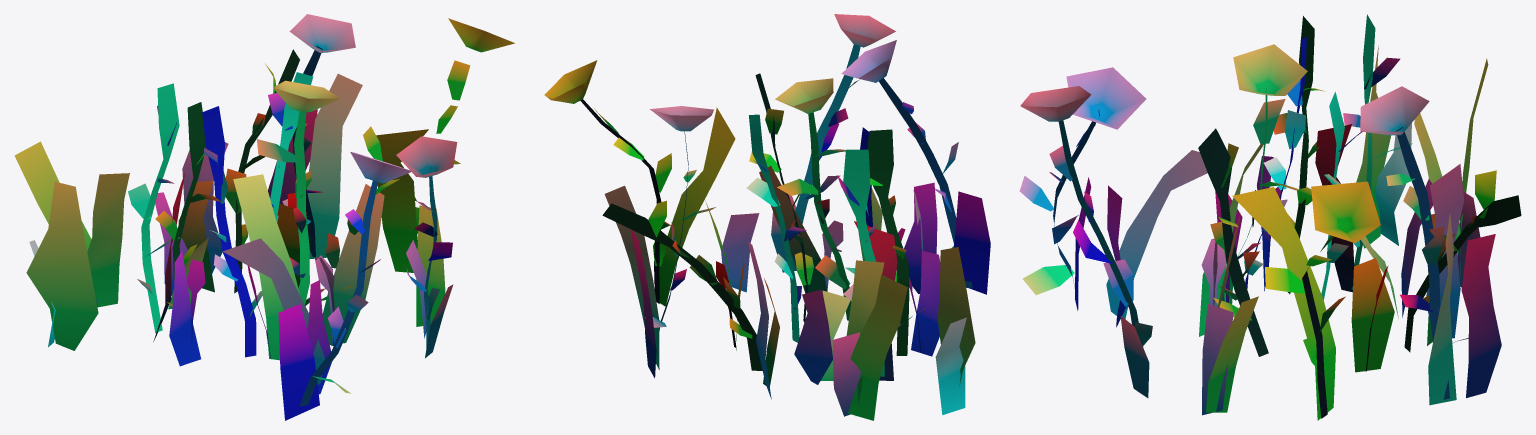
File: matted_pratia_f.fbx
3 views of the same model, side by side, from view 1: azimuth 30°, elevation 25°; view 2: azimuth 150°, elevation 25°; view 3: azimuth 270°, elevation 25° (orthographic). The views are drawn at different scales.
Visible parts, largest first — view 1: _9c06_VarF_LOD1; view 2: _9c06_VarF_LOD1; view 3: _9c06_VarF_LOD1.
Boxes of the visible parts, <box> form: _9c06_VarF_LOD1: <box>14,14,514,420</box>; _9c06_VarF_LOD1: <box>544,14,990,420</box>; _9c06_VarF_LOD1: <box>1019,14,1521,420</box>.
Bounding box in the file's own units: 16.43 × 8.82 × 13.25.
